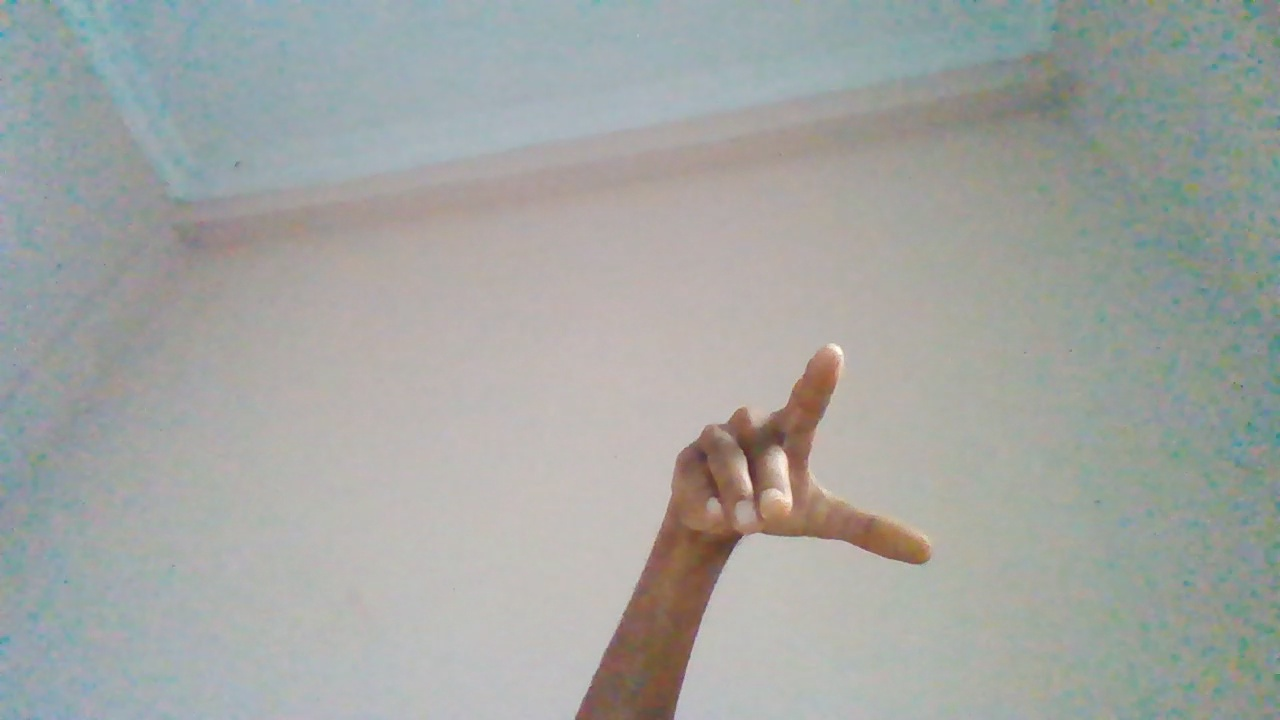ke: (634, 345, 936, 711)
